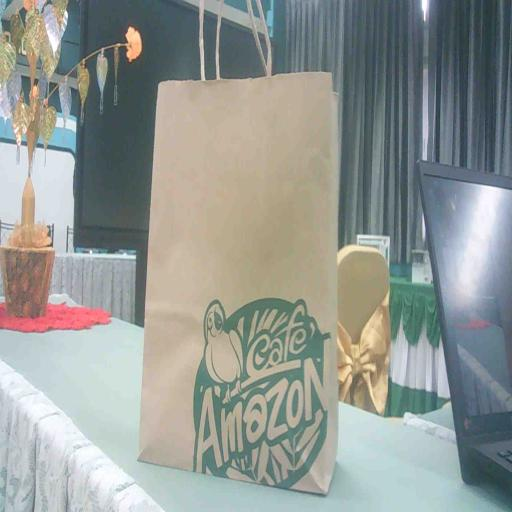bag: (128, 58, 354, 498)
